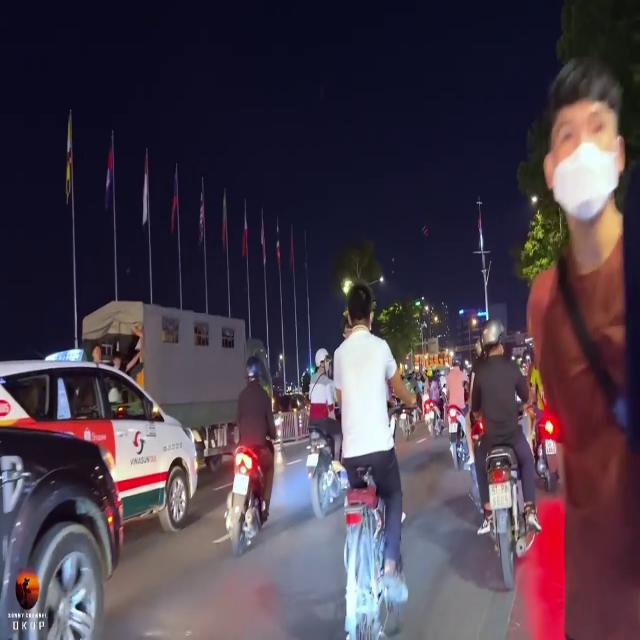bien_trang: (488, 481, 512, 513)
